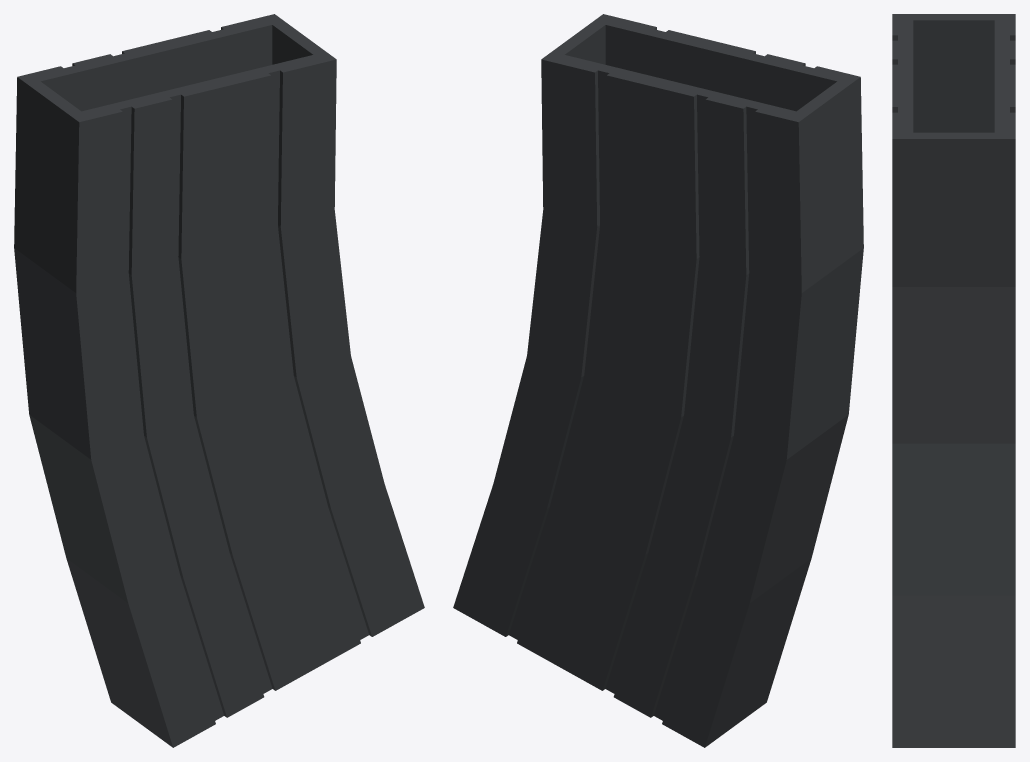
Rendered from AssaultRifle5_03_2.fbx.
3 views of the same model, side by side, from view 1: azimuth 30°, elevation 25°; view 2: azimuth 150°, elevation 25°; view 3: azimuth 270°, elevation 25° (orthographic).
Visible parts, largest first — view 1: AssaultRifle5_03_2; view 2: AssaultRifle5_03_2; view 3: AssaultRifle5_03_2.
Part boxes in pixels (<box>): AssaultRifle5_03_2: <box>14,14,424,747</box>; AssaultRifle5_03_2: <box>453,14,863,747</box>; AssaultRifle5_03_2: <box>892,14,1015,747</box>.
Bounding box in the file's own units: 0.0878 × 0.1561 × 0.0271.
